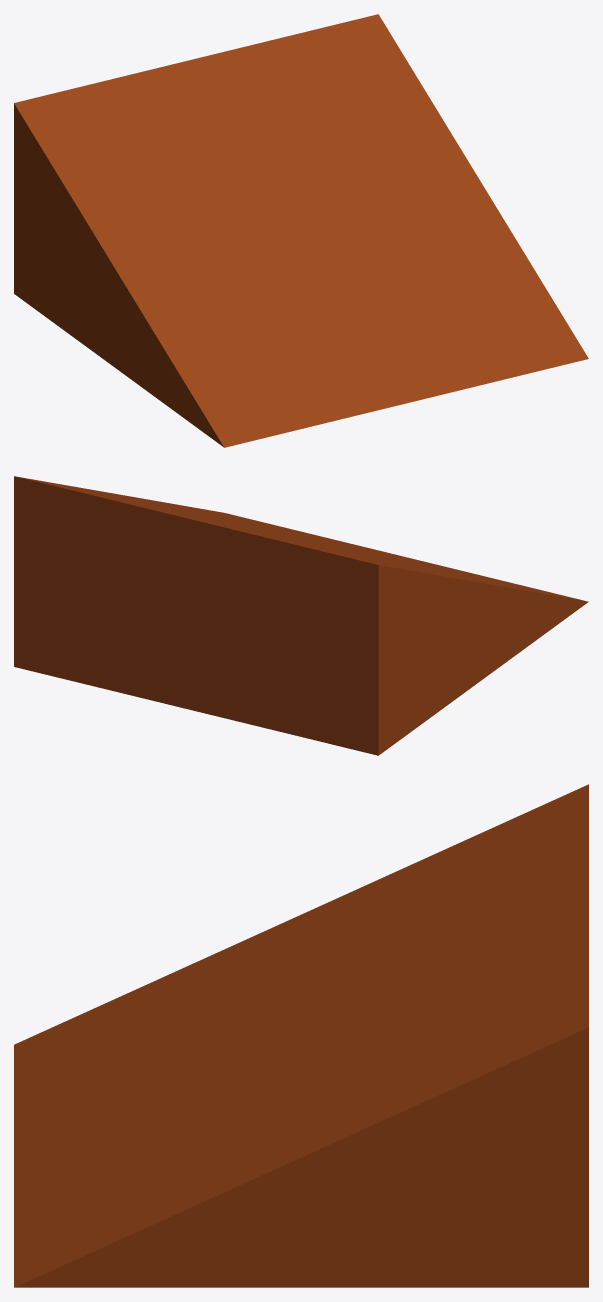
File: Ramp Module.fbx
3 views of the same model, one above another, from view 1: azimuth 30°, elevation 25°; view 2: azimuth 150°, elevation 25°; view 3: azimuth 270°, elevation 25° (orthographic). The views are drawn at different scales.
Visible parts, largest first — view 1: Flooring Type Ramp High, Flooring Type Ramp Mid High, Flooring Type Ramp Mid, Flooring Type Ramp Low; view 2: Flooring Type Ramp High, Flooring Type Ramp Mid High, Flooring Type Ramp Low, Flooring Type Ramp Mid; view 3: Flooring Type Ramp High, Flooring Type Ramp Mid, Flooring Type Ramp Mid High, Flooring Type Ramp Low.
Part boxes in pixels (x1,y1,x2,y2): Flooring Type Ramp High: [14, 14, 588, 447]; Flooring Type Ramp Mid High: [14, 151, 222, 445]; Flooring Type Ramp Mid: [14, 199, 223, 447]; Flooring Type Ramp Low: [14, 247, 221, 445]; Flooring Type Ramp High: [14, 476, 587, 754]; Flooring Type Ramp Mid High: [14, 524, 587, 754]; Flooring Type Ramp Low: [14, 603, 586, 755]; Flooring Type Ramp Mid: [14, 571, 587, 755]; Flooring Type Ramp High: [14, 784, 588, 1287]; Flooring Type Ramp Mid: [15, 1157, 588, 1287]; Flooring Type Ramp Mid High: [16, 1093, 588, 1287]; Flooring Type Ramp Low: [17, 1222, 588, 1287].
Size of the model in its own units: 400 by 200 by 400.
